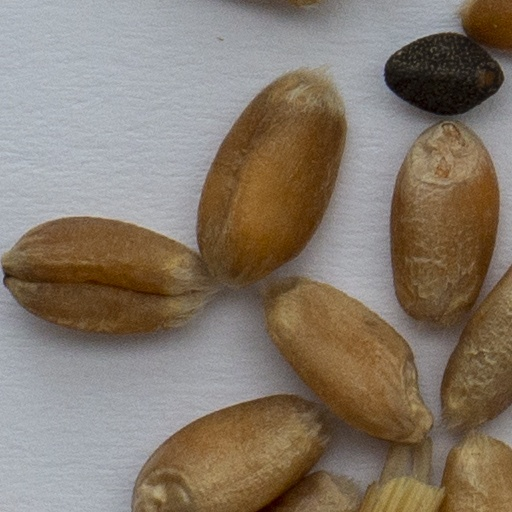Peel-poly: (360, 444, 437, 511)
